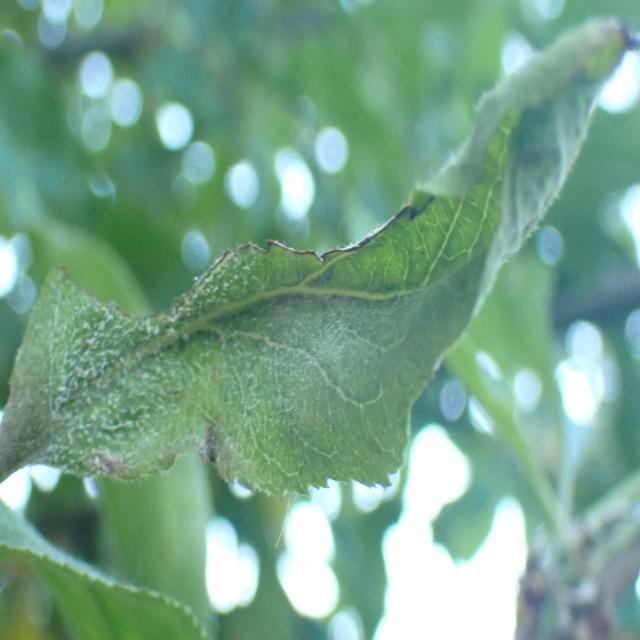Powdery_mildew: (0, 9, 617, 506)
